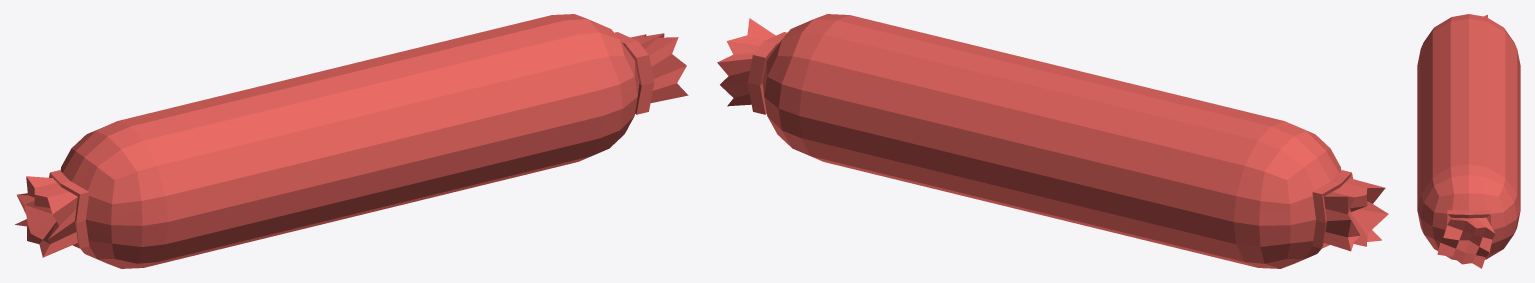
The model's file is Sausage.fbx.
The picture shows the model from 3 angles, left to right: view 1: azimuth 30°, elevation 25°; view 2: azimuth 150°, elevation 25°; view 3: azimuth 270°, elevation 25°; orthographic projection. The views are drawn at different scales.
Visible parts, largest first — view 1: Roundcube; view 2: Roundcube; view 3: Roundcube.
Part boxes in pixels (bbox=[...]): Roundcube: bbox=[15, 14, 688, 268]; Roundcube: bbox=[717, 14, 1388, 268]; Roundcube: bbox=[1417, 14, 1520, 268].
Bounding box in the file's own units: 1867 × 380 × 380.
